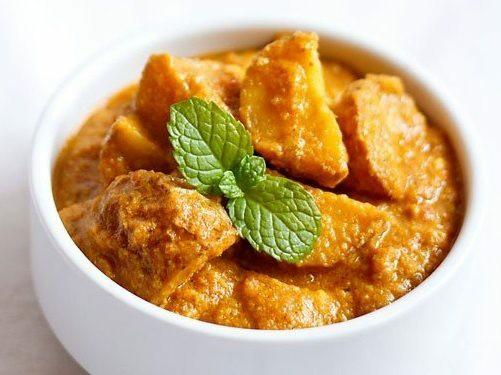DumAloo: (51, 28, 468, 329)
